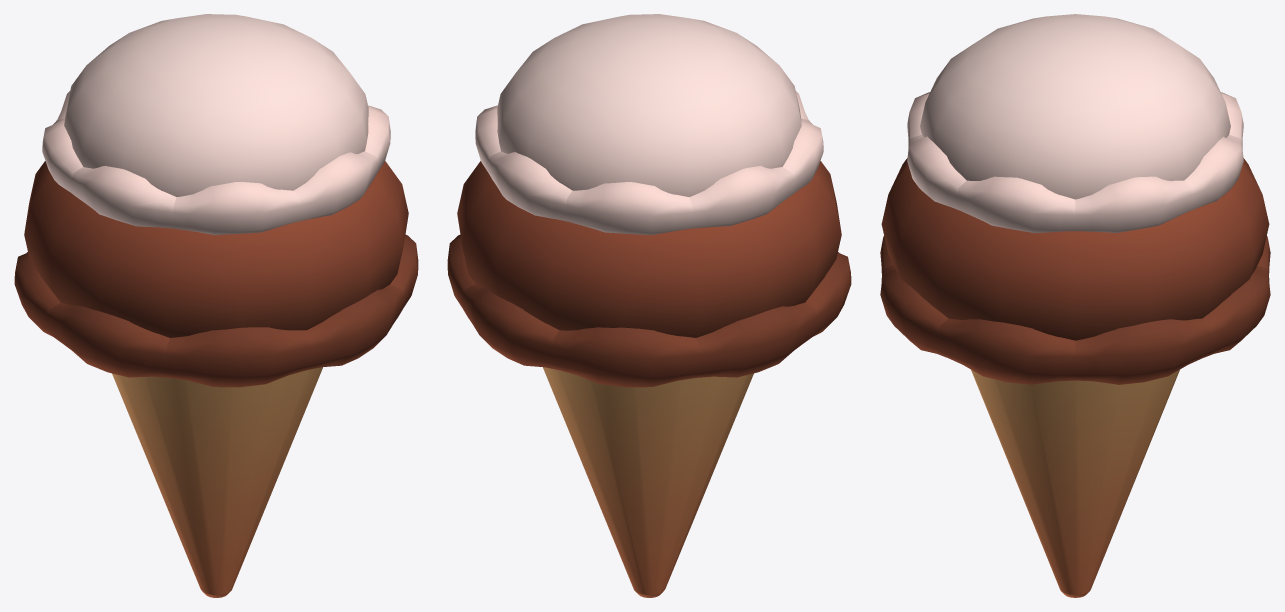
File: Icecream_V3_02.fbx
The picture shows the model from 3 angles, left to right: view 1: azimuth 30°, elevation 25°; view 2: azimuth 150°, elevation 25°; view 3: azimuth 270°, elevation 25°; orthographic projection.
Parts seen in each view (by area): view 1: Icecream_V3_02; view 2: Icecream_V3_02; view 3: Icecream_V3_02.
Part boxes in pixels (x1,y1,x2,y2): Icecream_V3_02: (14, 14, 418, 597); Icecream_V3_02: (447, 14, 851, 597); Icecream_V3_02: (880, 14, 1270, 597).
Bounding box in the file's own units: 31.28 × 49.57 × 31.28.
